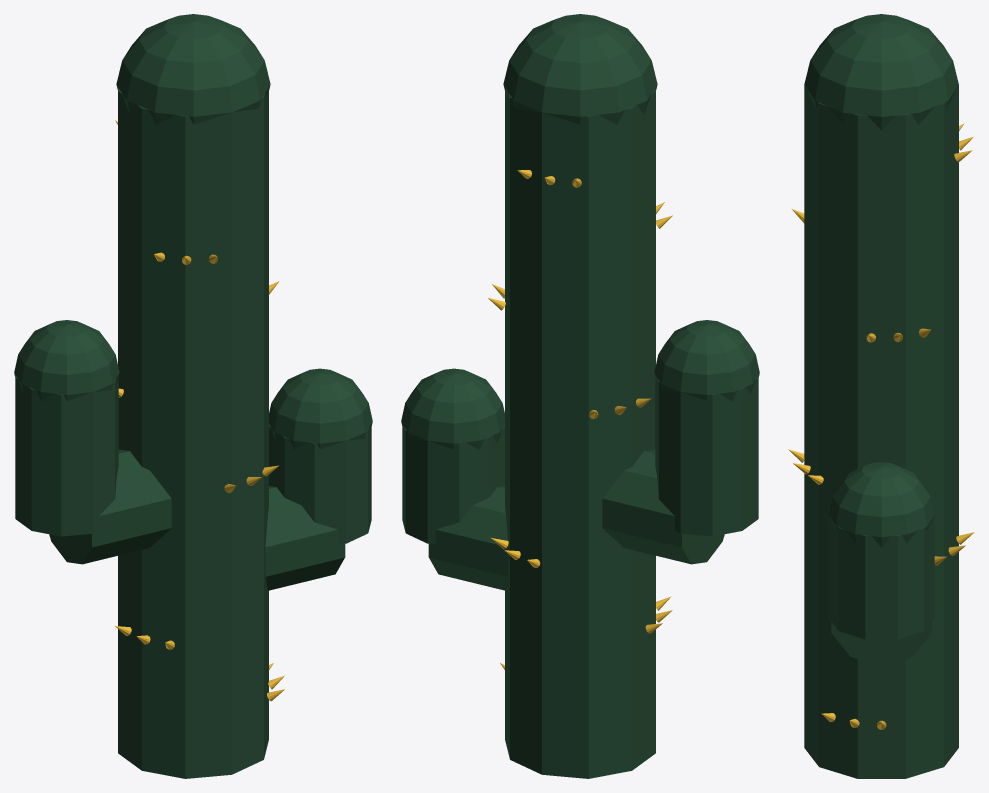
Rendered from good.glb.
3 views of the same model, side by side, from view 1: azimuth 30°, elevation 25°; view 2: azimuth 150°, elevation 25°; view 3: azimuth 270°, elevation 25° (orthographic).
Visible parts, largest first — view 1: Branch, Spine; view 2: Branch, Spine; view 3: Branch, Spine.
Part boxes in pixels (x1,y1,x2,y2): Branch: [14, 14, 372, 778]; Spine: [115, 120, 284, 701]; Branch: [401, 14, 759, 778]; Spine: [488, 170, 672, 669]; Branch: [804, 14, 958, 778]; Spine: [788, 123, 974, 729].
Size of the model in its own units: 0.98 by 1.97 by 0.4589.
